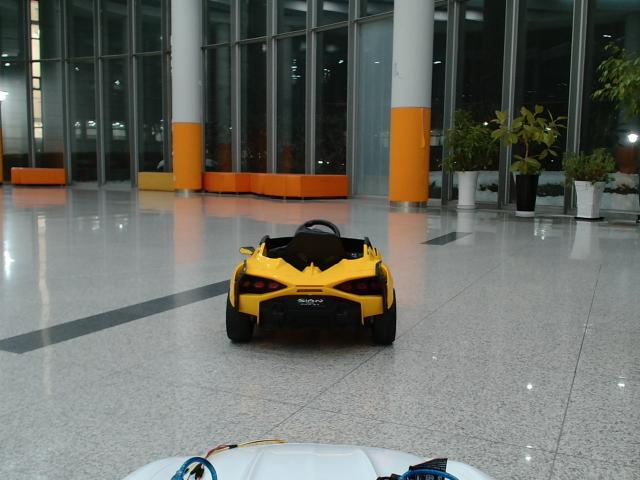car: (226, 220, 397, 345)
